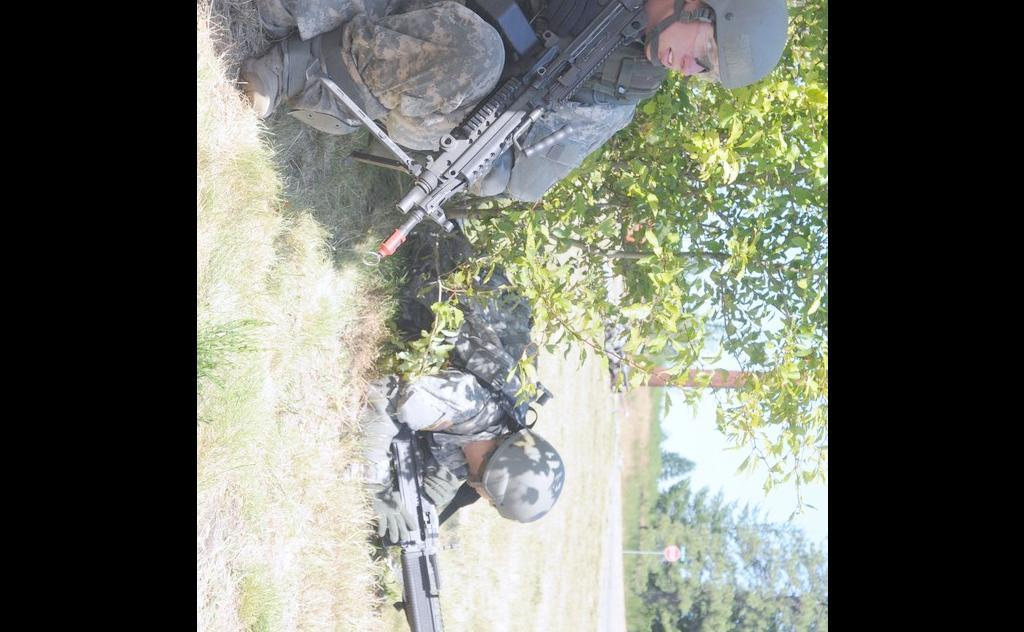gun: (377, 0, 695, 258), (356, 436, 472, 632)
